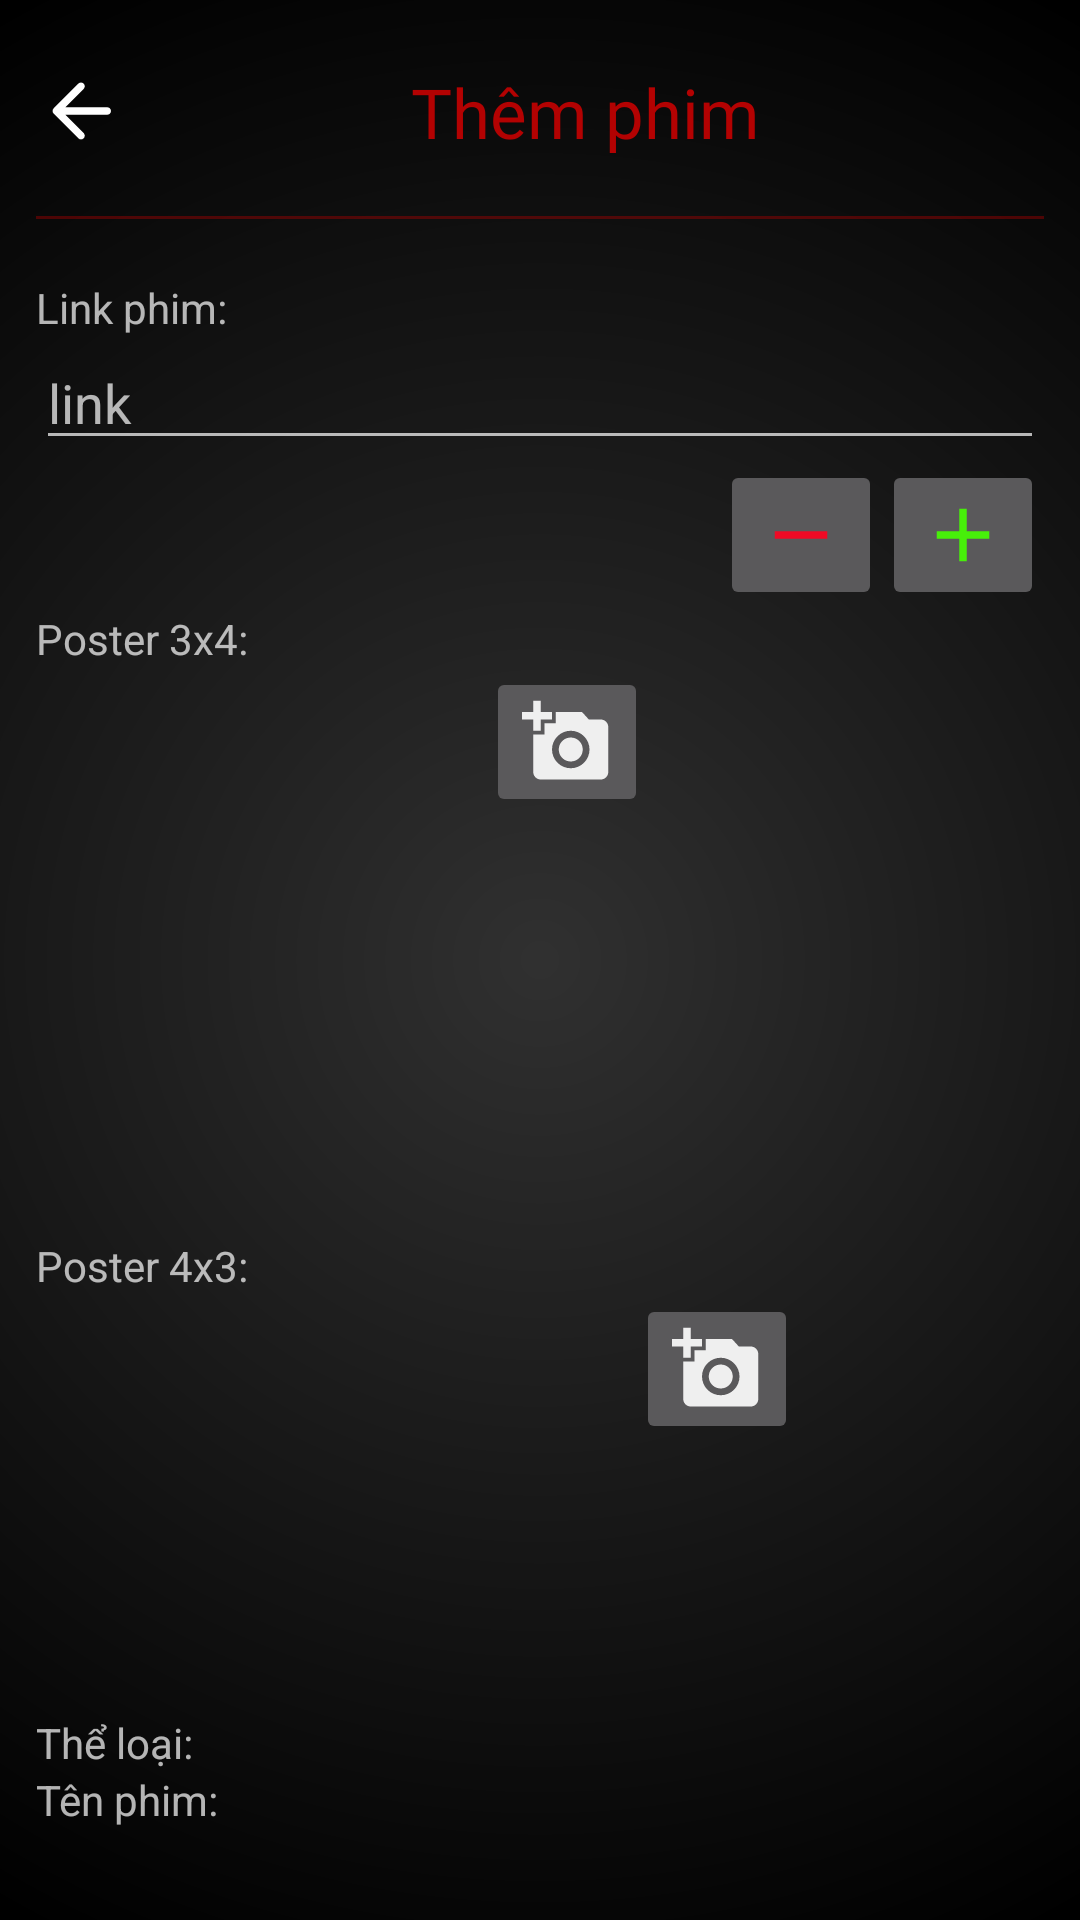

Icons on this 1080*1920 Android screen, each with the point to tap as [x,y]:
add: [963,535]
add photo: [567,742], [717,1369]
arrow back: [81,111]
remove: [801,535]
